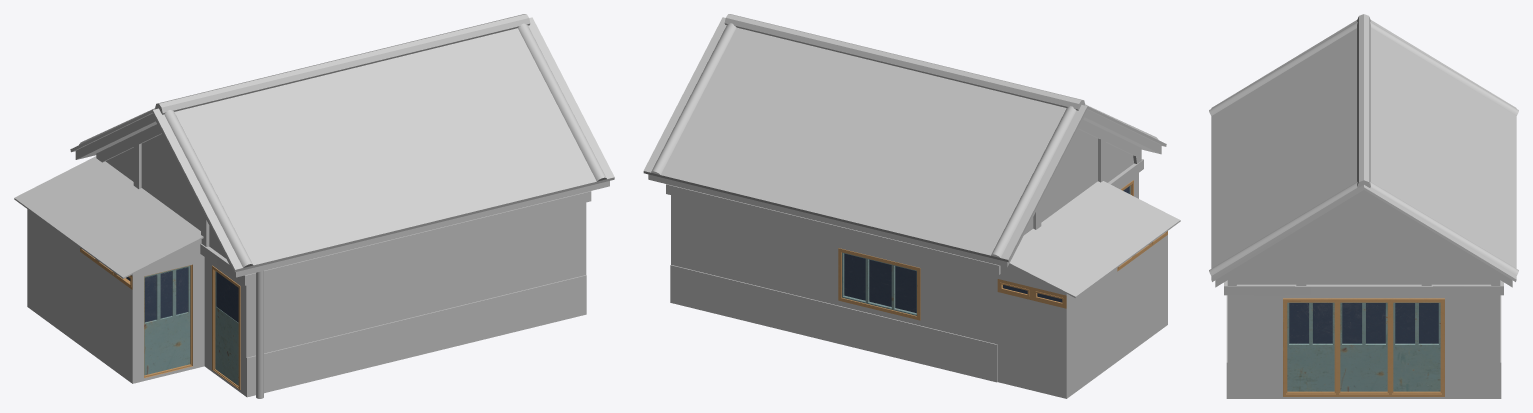
Rendered from House2-3.fbx.
3 views of the same model, side by side, from view 1: azimuth 30°, elevation 25°; view 2: azimuth 150°, elevation 25°; view 3: azimuth 270°, elevation 25° (orthographic). The views are drawn at different scales.
Parts seen in each view (by area): view 1: House2-3; view 2: House2-3; view 3: House2-3.
Boxes of the visible parts, x1=… form: House2-3: x1=14, y1=14, x2=614, y2=398; House2-3: x1=643, y1=14, x2=1180, y2=398; House2-3: x1=1209, y1=14, x2=1518, y2=398.
Bounding box in the file's own units: 521 × 273 × 341.
